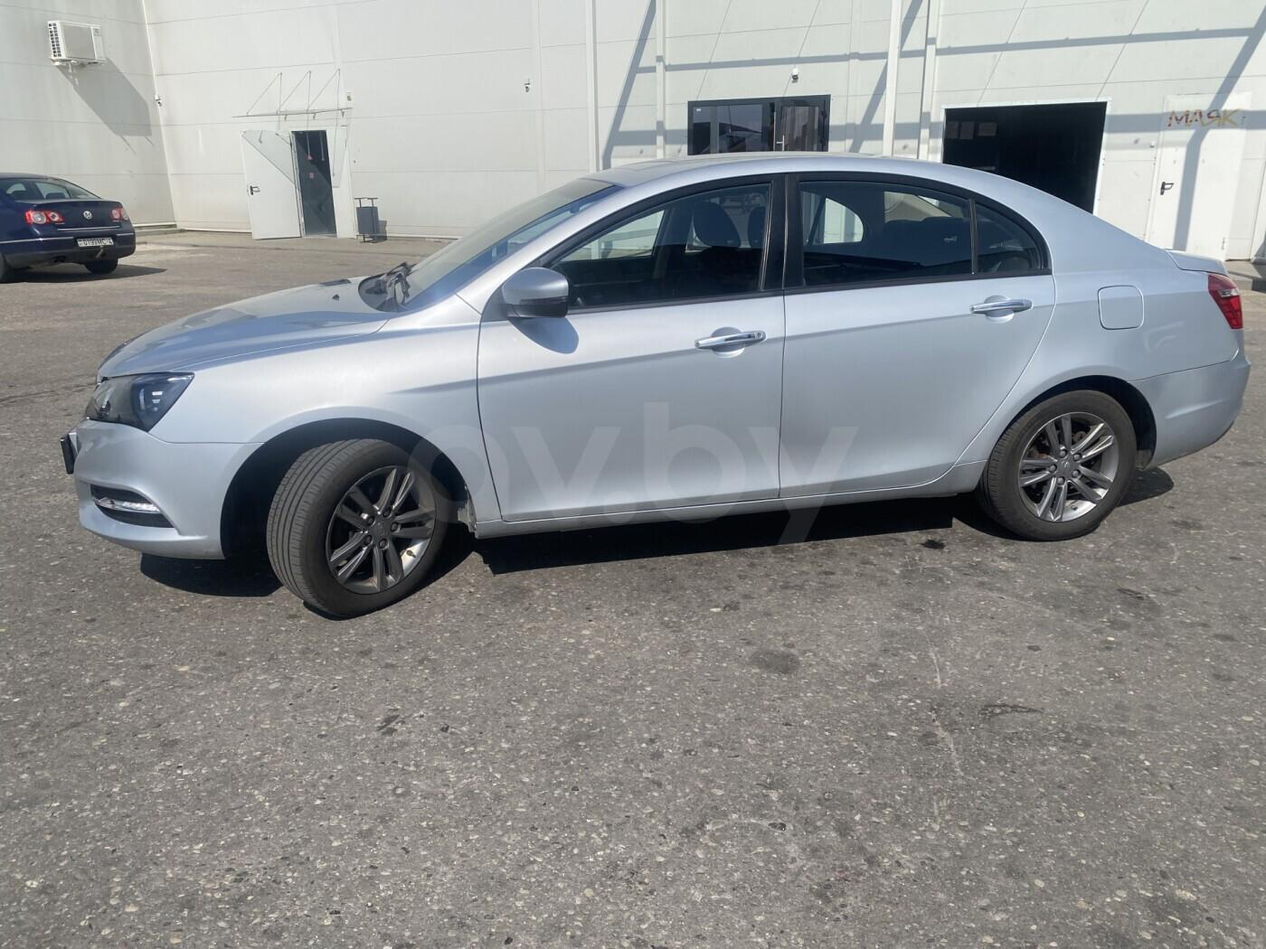Emgrand_2019-2021: (63, 153, 1250, 615)
